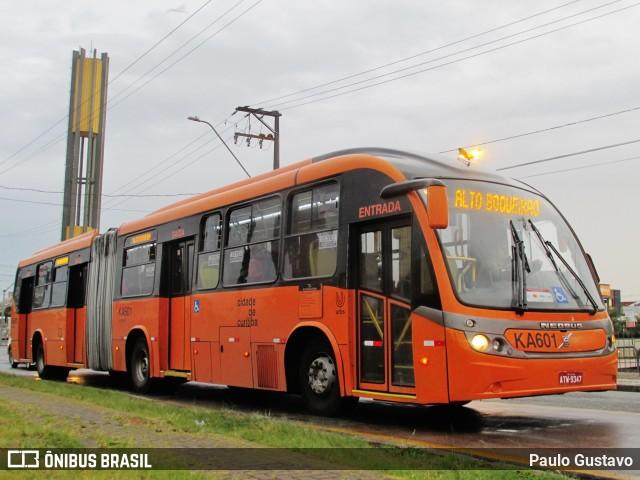ALTO BOQUEIRAO: (449, 186, 541, 221)
